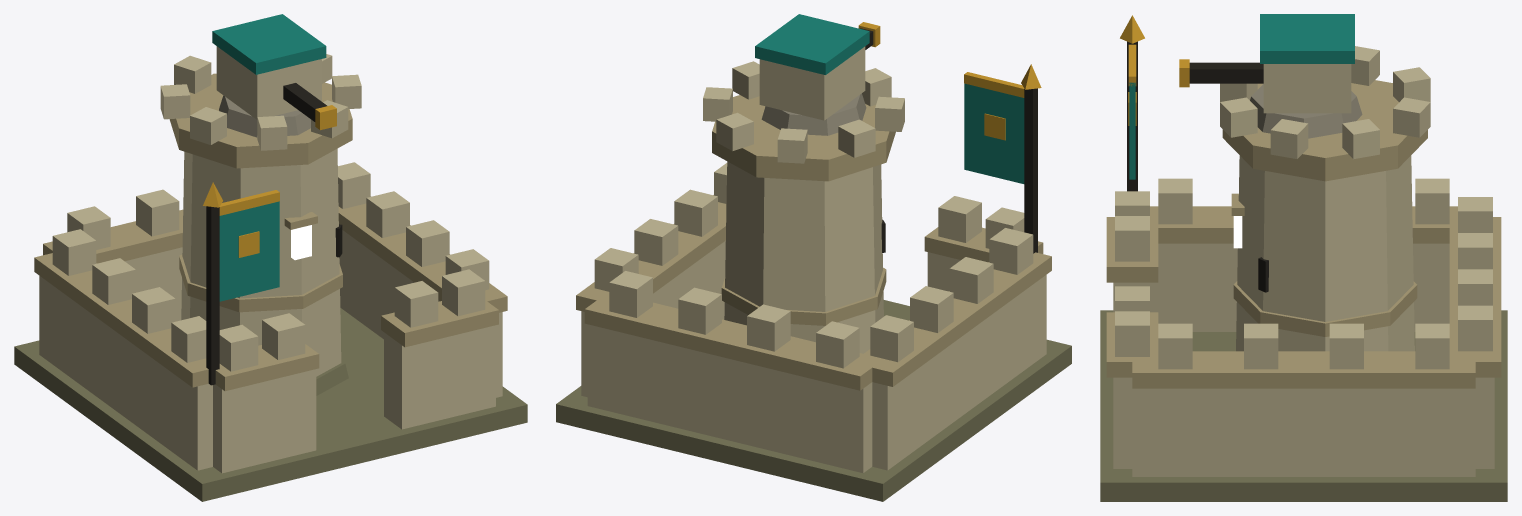
File: outpost_t1.glb
3 views of the same model, side by side, from view 1: azimuth 30°, elevation 25°; view 2: azimuth 150°, elevation 25°; view 3: azimuth 270°, elevation 25° (orthographic). The views are drawn at different scales.
Visible parts, largest first — view 1: body, part_turret, glow; view 2: body, part_turret; view 3: body, part_turret.
Part boxes in pixels (x1,y1,x2,y2): body: [14, 54, 527, 501]; part_turret: [212, 14, 336, 137]; glow: [291, 225, 311, 260]; body: [556, 61, 1071, 501]; part_turret: [755, 14, 880, 135]; body: [1100, 15, 1507, 501]; part_turret: [1179, 14, 1362, 138].
Bounding box in the file's own units: 1.9 × 1.97 × 1.9.
